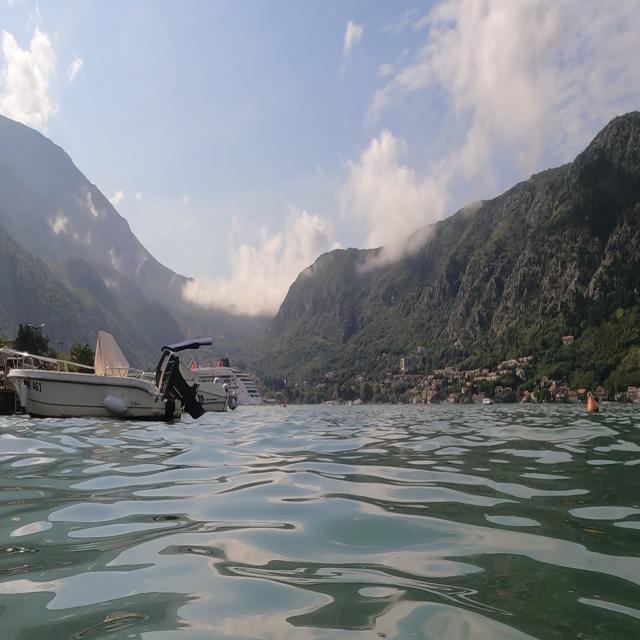boat: (6, 326, 215, 424), (157, 329, 237, 428), (177, 333, 269, 417)
buoy: (583, 388, 605, 417)
